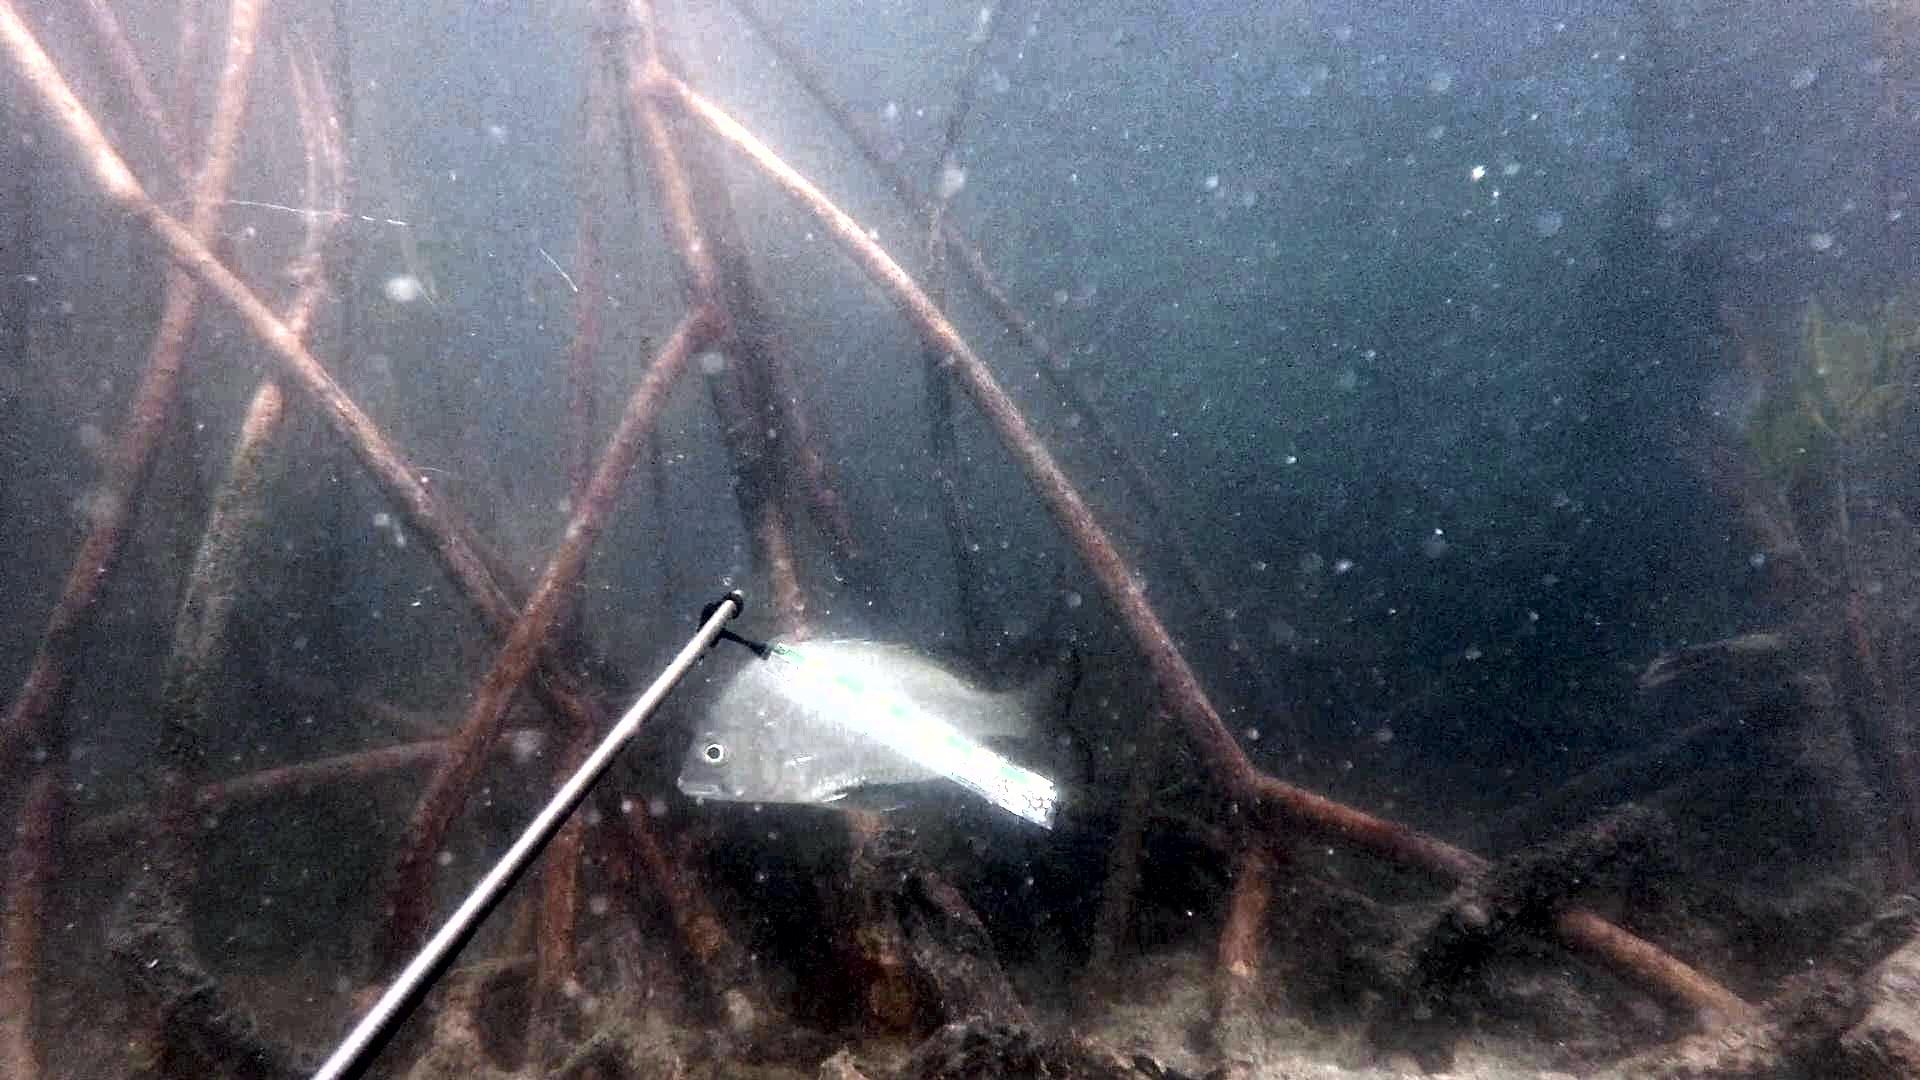acanthopagrus palmaris: (670, 634, 1101, 844)
